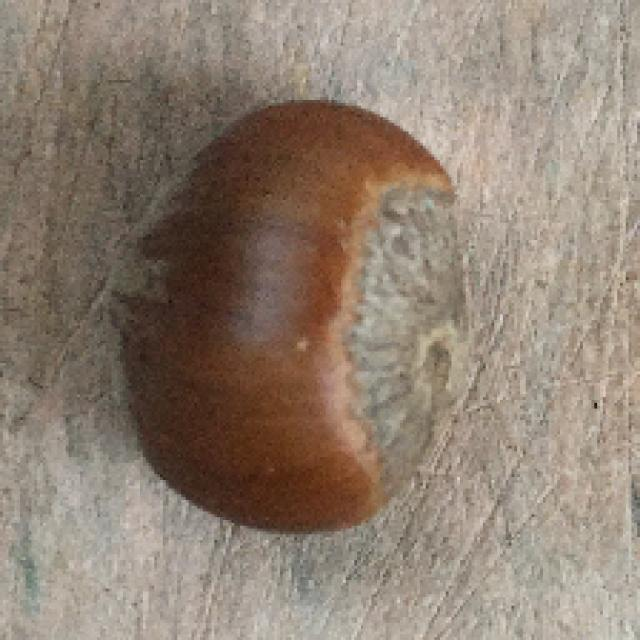damagedHazelnut: (112, 93, 467, 533)
